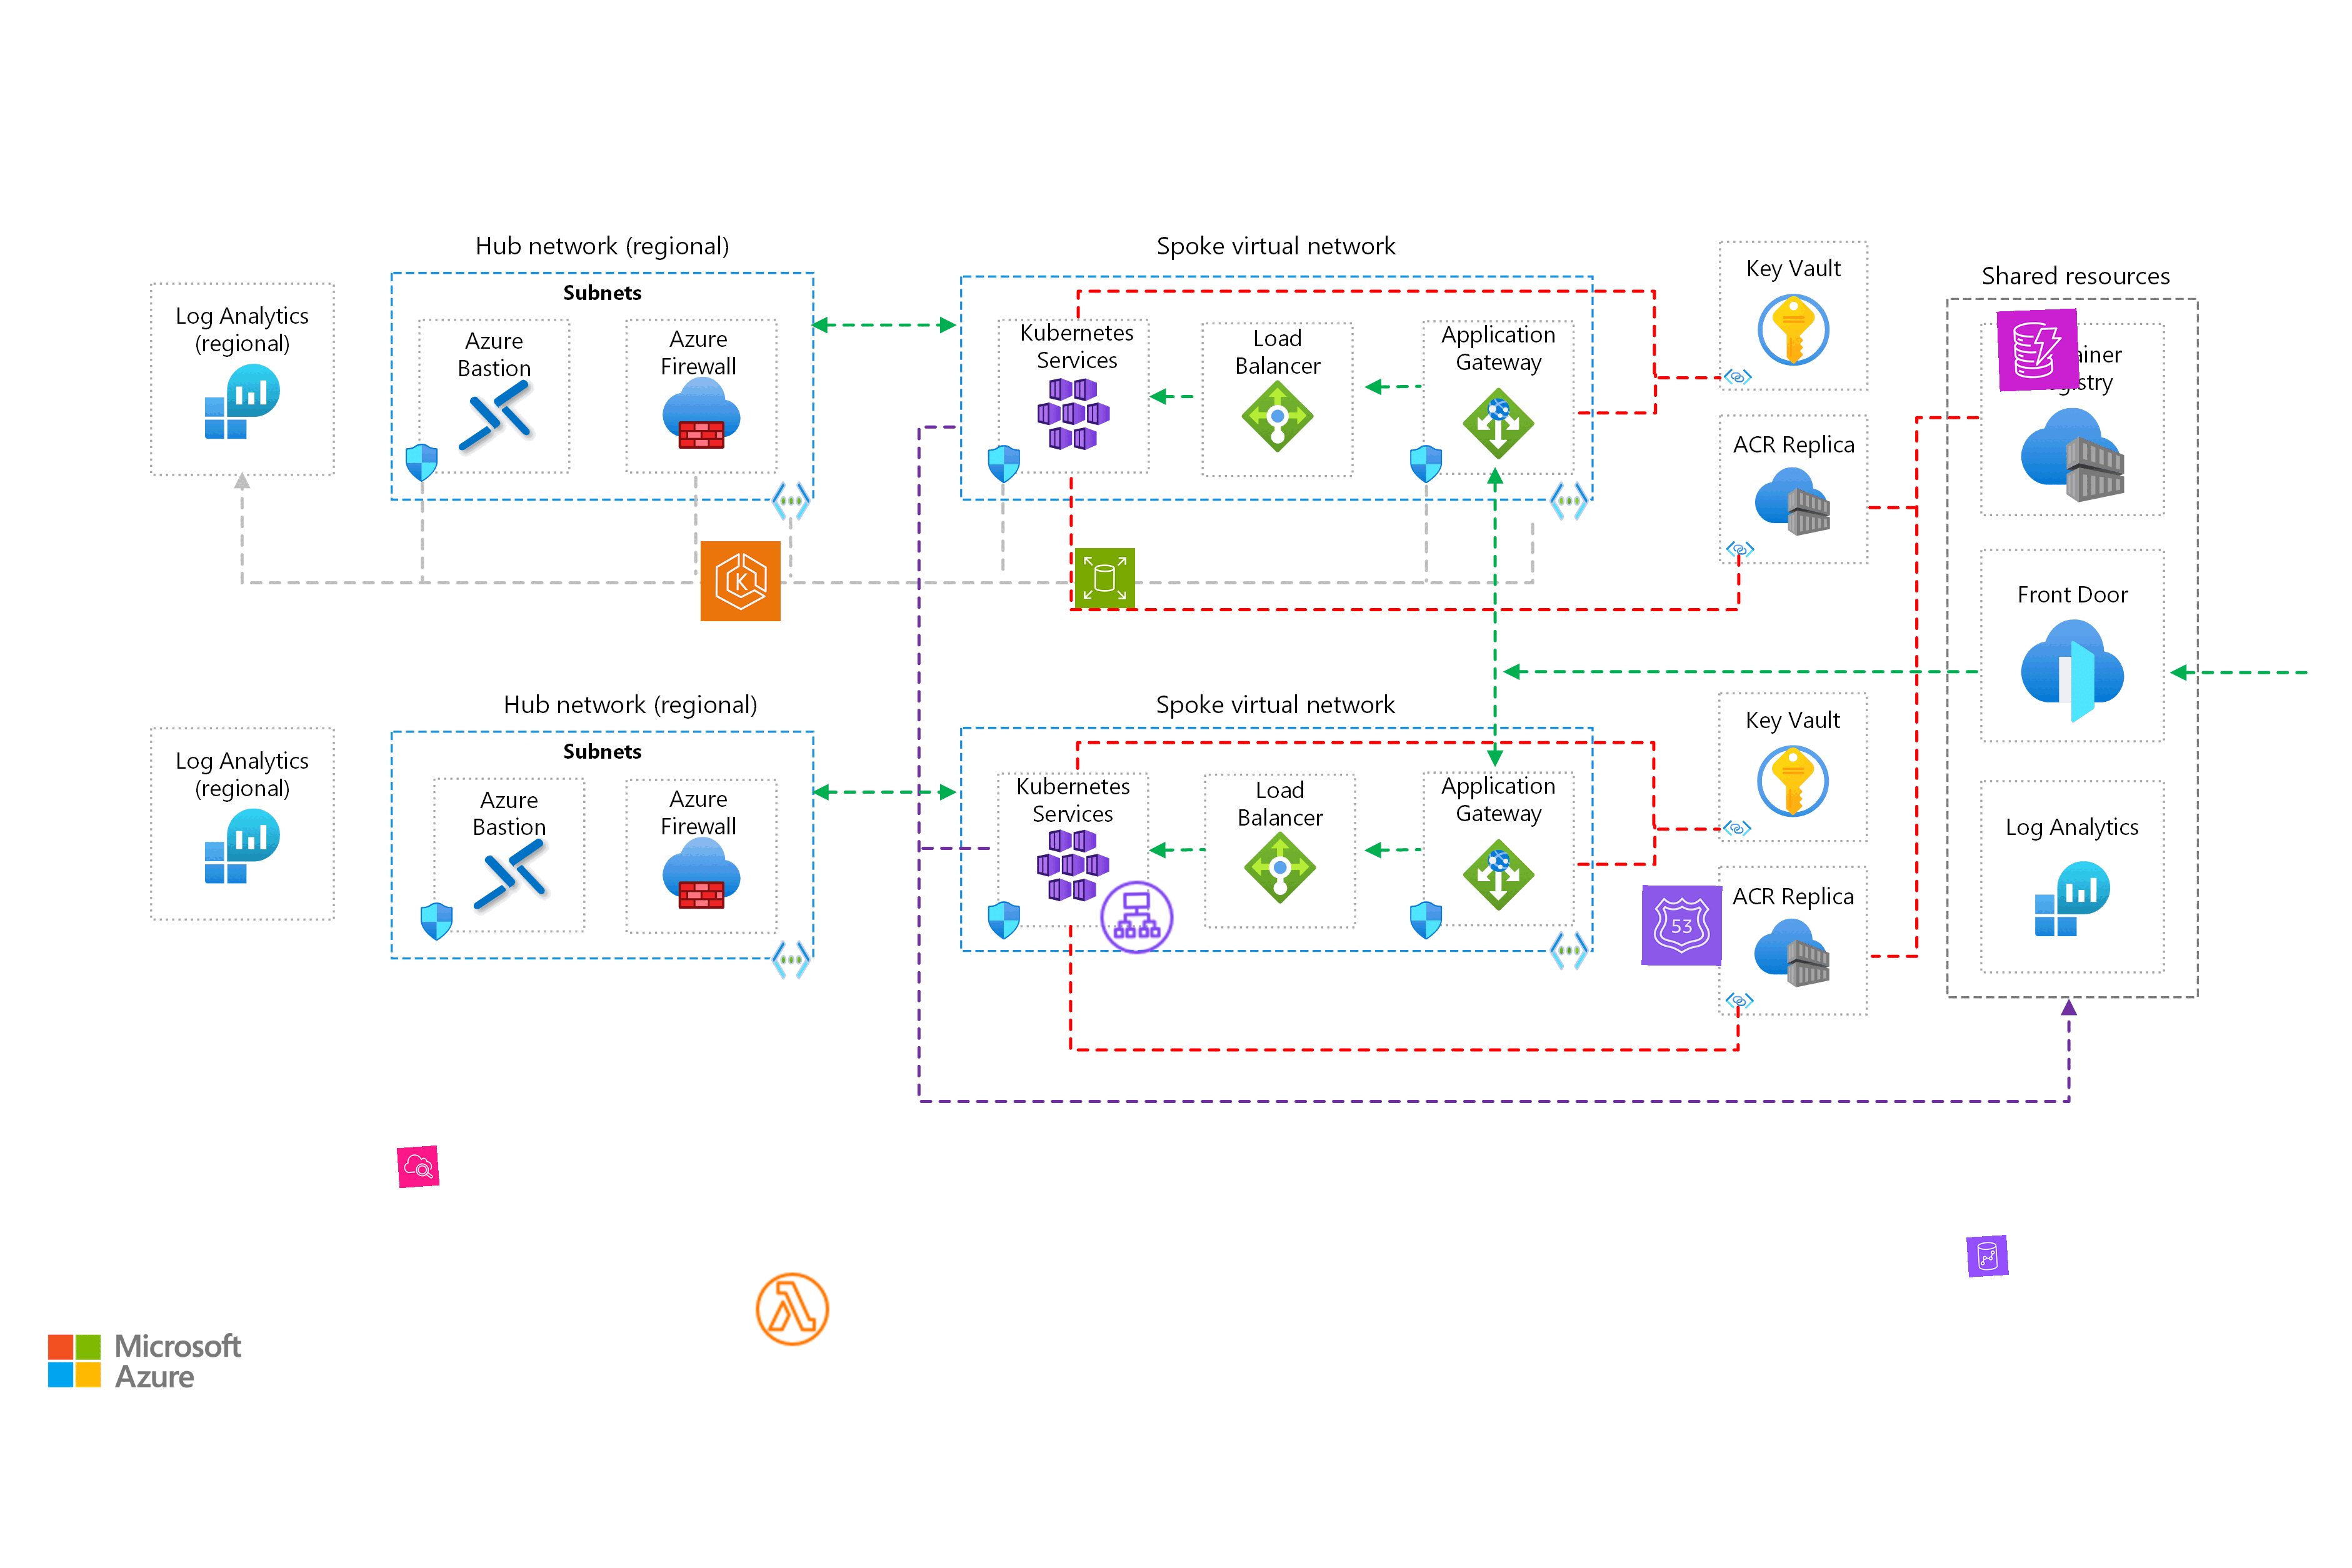aws_amazon_cloudwatch: (396, 1144, 439, 1188)
aws_amazon_dynamodb: (1997, 308, 2081, 392)
aws_amazon_elastic_block_store: (1075, 548, 1136, 609)
aws_amazon_elastic_kubernetes_service: (700, 541, 780, 621)
aws_amazon_redshift: (1967, 1235, 2009, 1277)
aws_amazon_route_53: (1642, 885, 1722, 966)
aws_elastic_load_balancing_application_load_balancer: (1095, 877, 1178, 959)
aws_lambda_lambda_function: (752, 1269, 833, 1349)
